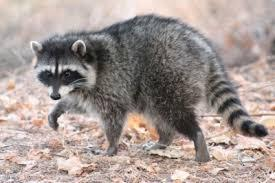raccoon: (29, 12, 269, 162)
